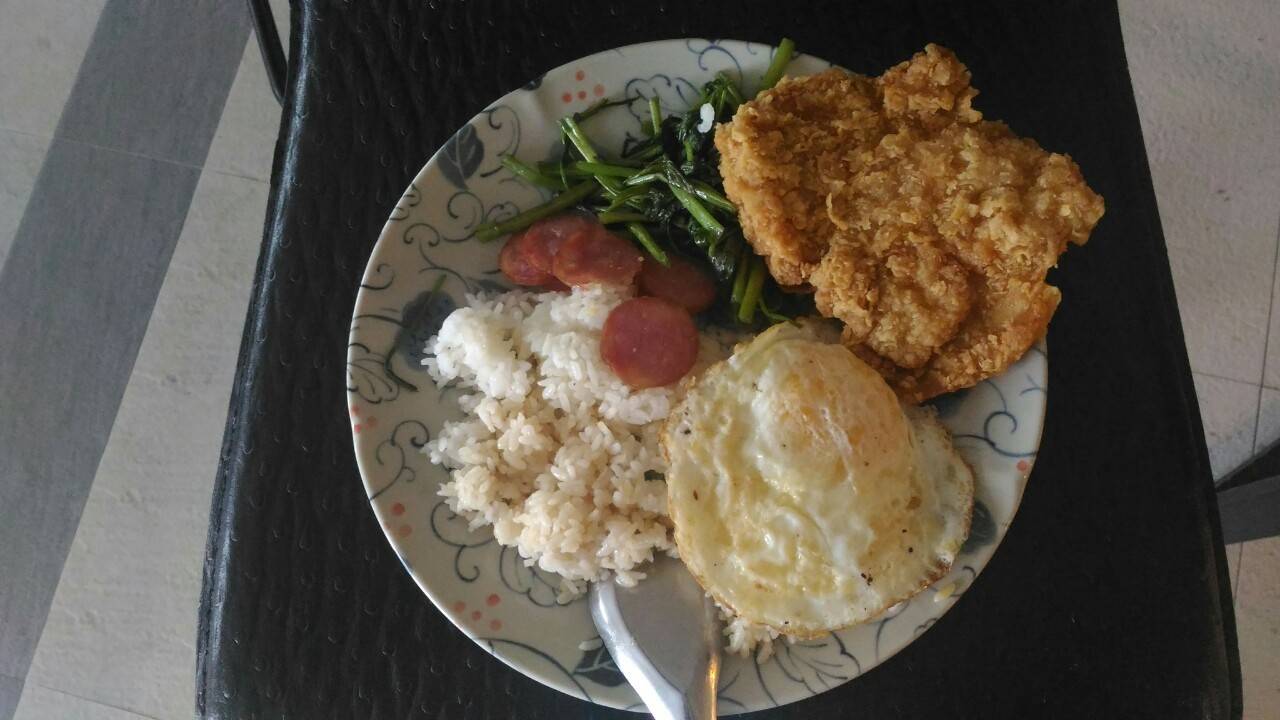chinese_sausage: (501, 218, 717, 356)
fried_chicken: (729, 48, 1101, 392)
fried_eggs: (672, 327, 972, 633)
rice: (450, 288, 669, 560)
water_spinach: (590, 98, 730, 240)
